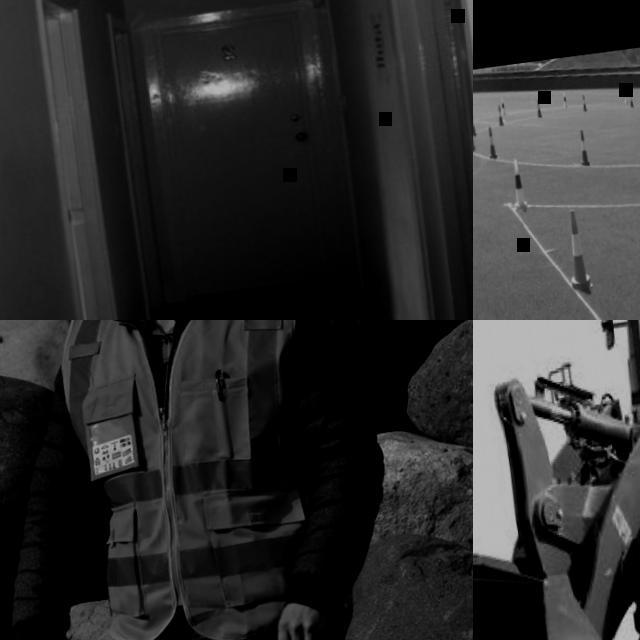vest: (56, 320, 369, 640)
